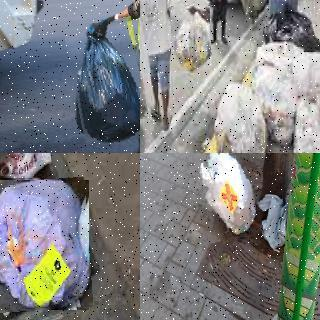Garbage: (0, 178, 91, 311), (68, 18, 140, 144), (250, 41, 320, 144), (195, 153, 260, 240), (211, 78, 269, 153), (265, 8, 320, 57), (170, 6, 211, 70), (293, 92, 320, 153)
